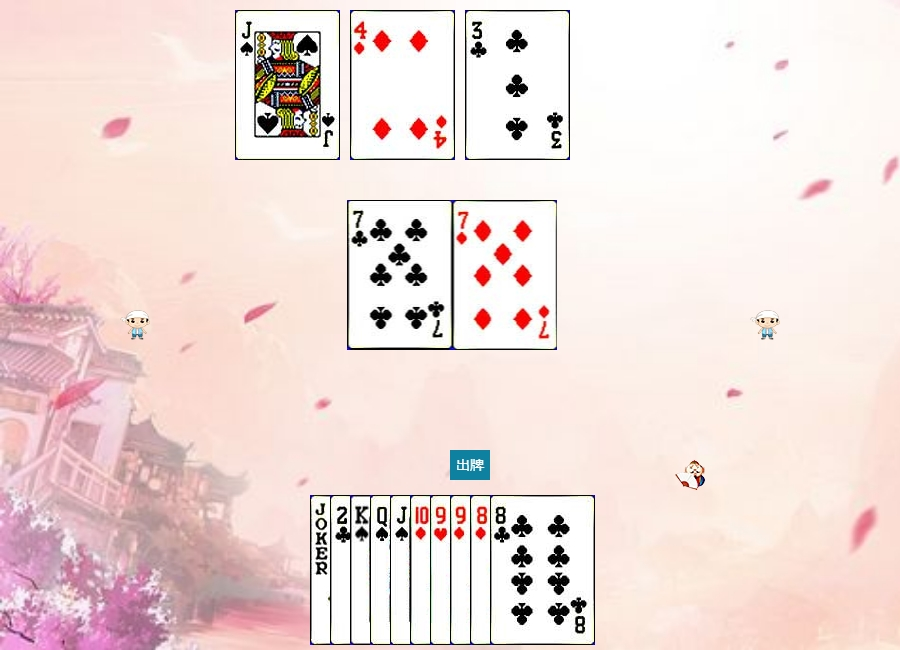10~1: (410, 495, 515, 645)
11~4: (235, 10, 340, 160), (390, 495, 495, 645)
12~4: (370, 495, 475, 645)
13~4: (350, 495, 455, 645)
15~2: (330, 495, 435, 645)
17~3: (310, 495, 415, 645)
3~2: (465, 10, 570, 160)
4~1: (350, 10, 455, 160)
7~1: (453, 200, 558, 350)
7~2: (348, 200, 453, 350)
8~1: (470, 495, 575, 645)
8~2: (490, 495, 595, 645)
9~1: (450, 495, 555, 645)
9~3: (430, 495, 535, 645)
